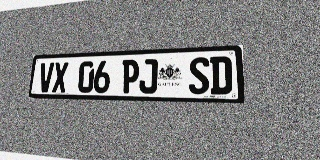0: (77, 61, 95, 93)
6: (93, 60, 111, 93)
D: (210, 56, 232, 95)
J: (139, 59, 158, 94)
P: (121, 59, 139, 93)
S: (189, 57, 209, 94)
V: (38, 62, 54, 92)
X: (52, 62, 68, 93)
